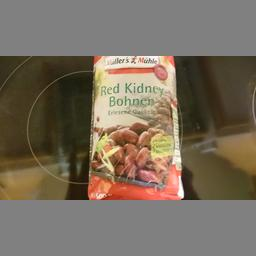beans: (92, 55, 180, 199)
